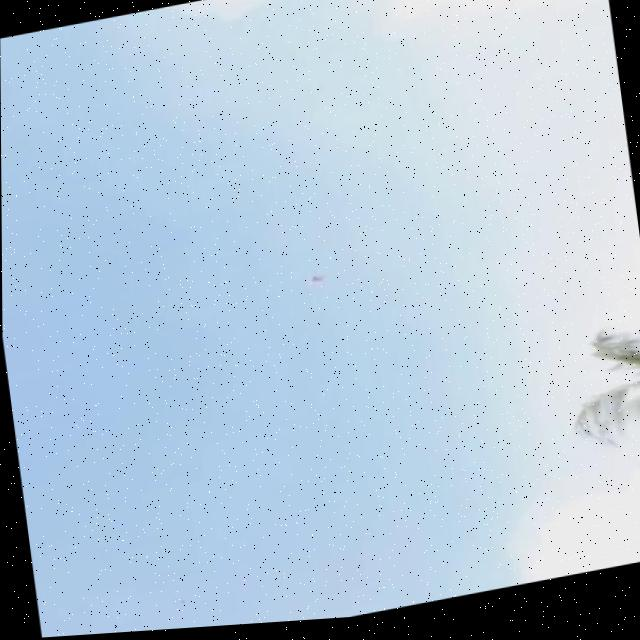drones: (253, 234, 364, 310)
